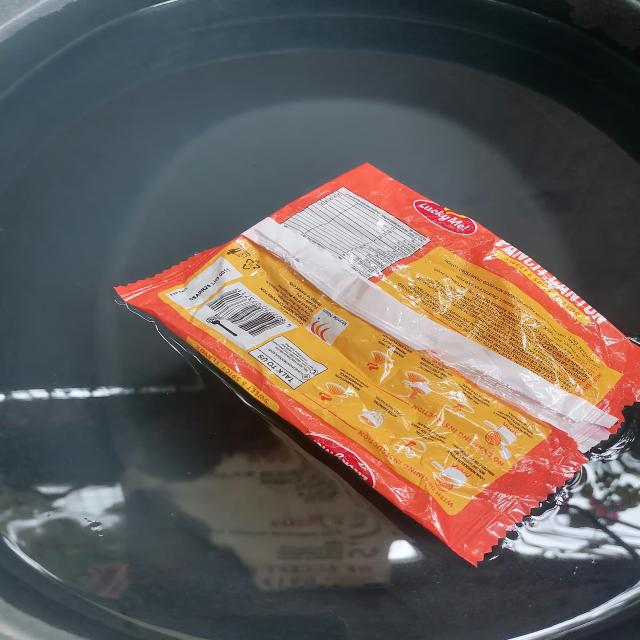Plastic Wrapper: (96, 139, 640, 579)
